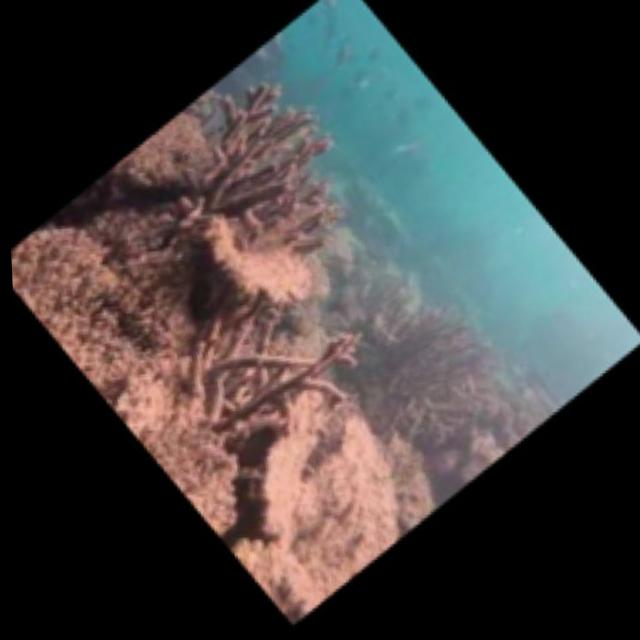Dead Coral: (54, 54, 430, 537), (122, 261, 505, 520), (96, 58, 384, 360)
